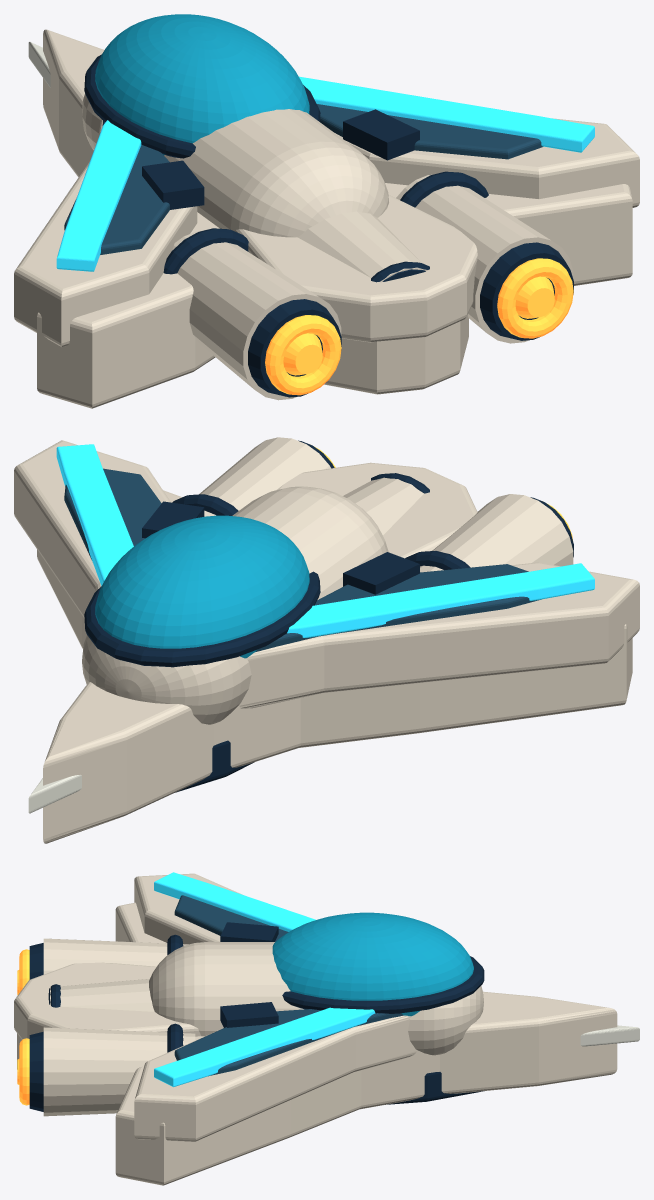
The model's file is vector-high.glb.
3 renders of one model, top to bottom at view 1: azimuth 30°, elevation 25°; view 2: azimuth 150°, elevation 25°; view 3: azimuth 270°, elevation 25°, orthographic. The views are drawn at different scales.
Parts seen in each view (by area): view 1: hull_static, glass_static, dark_static, trim_static, engine_static, accent_static; view 2: hull_static, glass_static, trim_static, dark_static, accent_static, porcelain_static; view 3: hull_static, glass_static, dark_static, trim_static, accent_static, engine_static, porcelain_static.
Part boxes in pixels (x1=…): hull_static: x1=14, y1=29, x2=639, y2=408; glass_static: x1=95, y1=14, x2=309, y2=155; dark_static: x1=84, y1=54, x2=573, y2=397; trim_static: x1=56, y1=76, x2=594, y2=271; engine_static: x1=265, y1=258, x2=573, y2=395; accent_static: x1=64, y1=104, x2=543, y2=254; hull_static: x1=14, y1=437, x2=639, y2=843; glass_static: x1=95, y1=515, x2=309, y2=658; trim_static: x1=56, y1=444, x2=594, y2=637; dark_static: x1=84, y1=440, x2=573, y2=792; accent_static: x1=64, y1=468, x2=541, y2=651; porcelain_static: x1=28, y1=775, x2=81, y2=813; hull_static: x1=14, y1=873, x2=617, y2=1185; glass_static: x1=272, y1=912, x2=473, y2=1016; dark_static: x1=29, y1=922, x2=484, y2=1111; trim_static: x1=154, y1=872, x2=375, y2=1086; accent_static: x1=174, y1=895, x2=403, y2=1076; engine_static: x1=17, y1=949, x2=29, y2=1105; porcelain_static: x1=580, y1=1025, x2=639, y2=1046.
Size of the model in its own units: 348 by 112 by 405.
